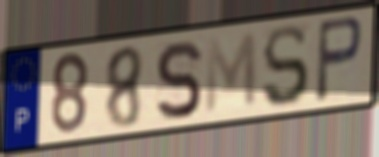8: (102, 43, 146, 130), (51, 49, 90, 138)
M: (203, 29, 259, 118)
P: (313, 13, 365, 105)
S: (260, 22, 311, 110), (152, 38, 203, 124)
